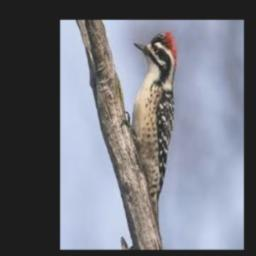Woodpecker: (121, 31, 179, 227)
